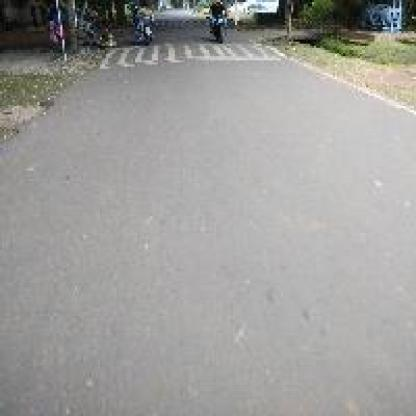Speed Bump: (92, 39, 287, 73)
